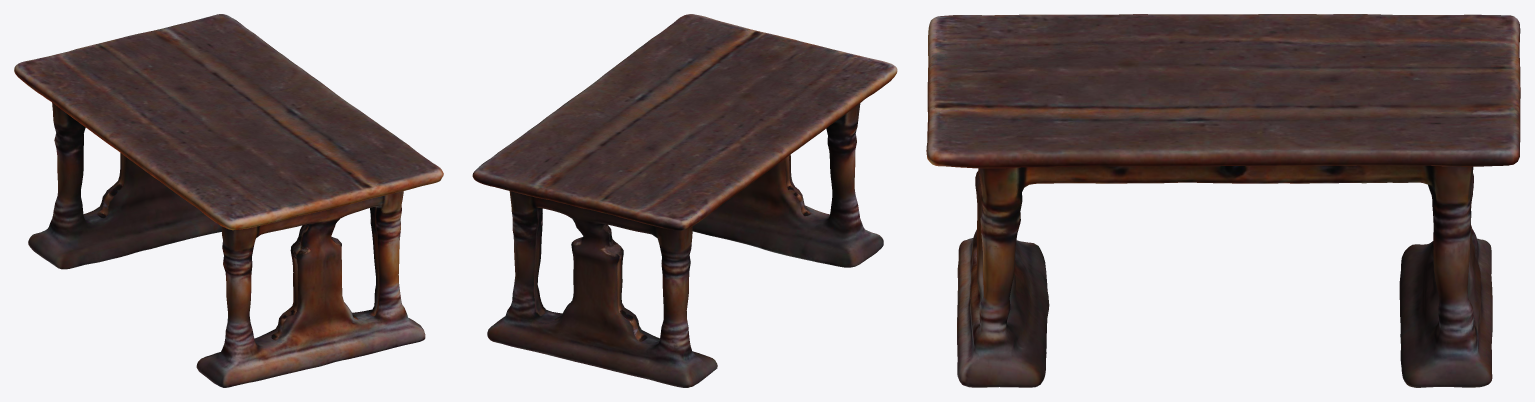
The model's file is 4ac3c565ec93_light_brown_old_tab.fbx.
3 views of the same model, side by side, from view 1: azimuth 30°, elevation 25°; view 2: azimuth 150°, elevation 25°; view 3: azimuth 270°, elevation 25° (orthographic). The views are drawn at different scales.
Parts seen in each view (by area): view 1: mesh; view 2: mesh; view 3: mesh.
Part boxes in pixels (x1=…): mesh: x1=14, y1=14, x2=443, y2=387; mesh: x1=472, y1=14, x2=897, y2=387; mesh: x1=926, y1=14, x2=1520, y2=387.
Bounding box in the file's own units: 57.29 × 45.34 × 99.92.
